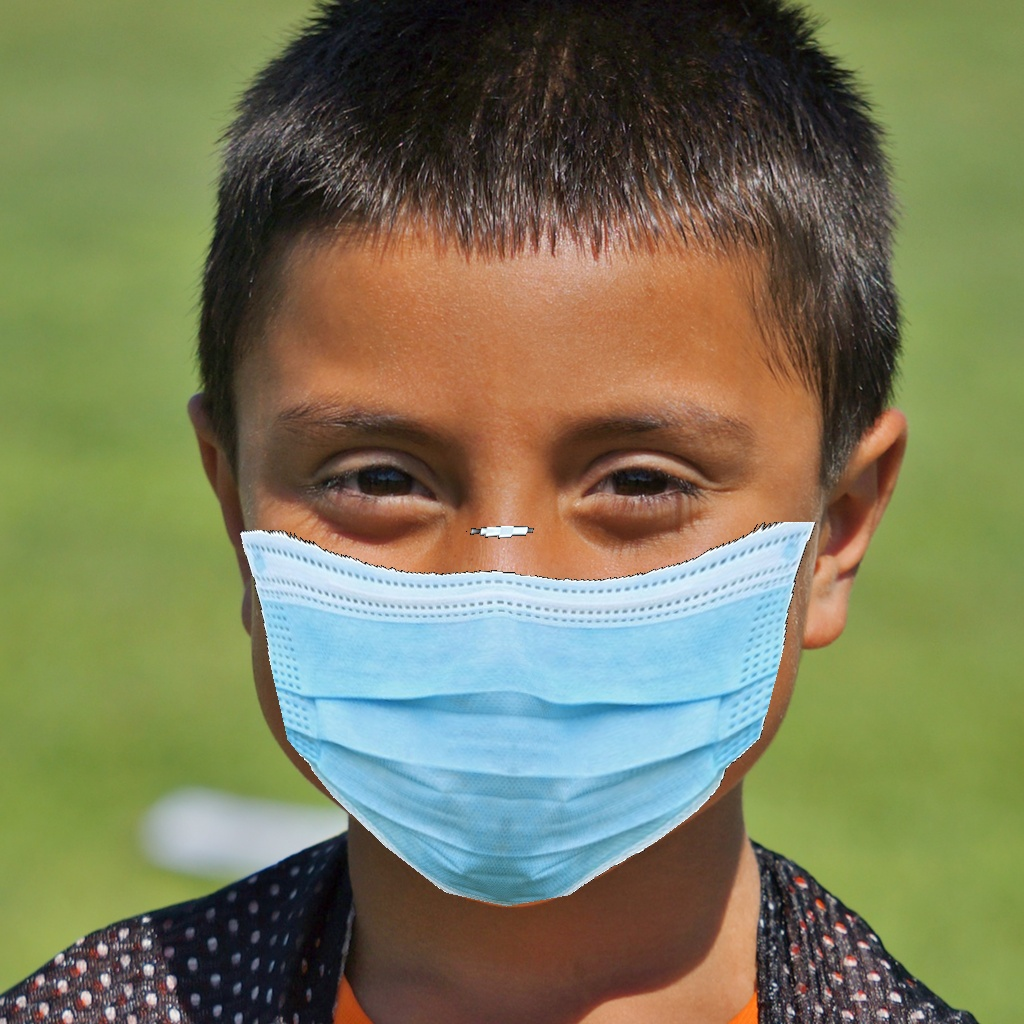with_mask: (242, 396, 808, 915)
